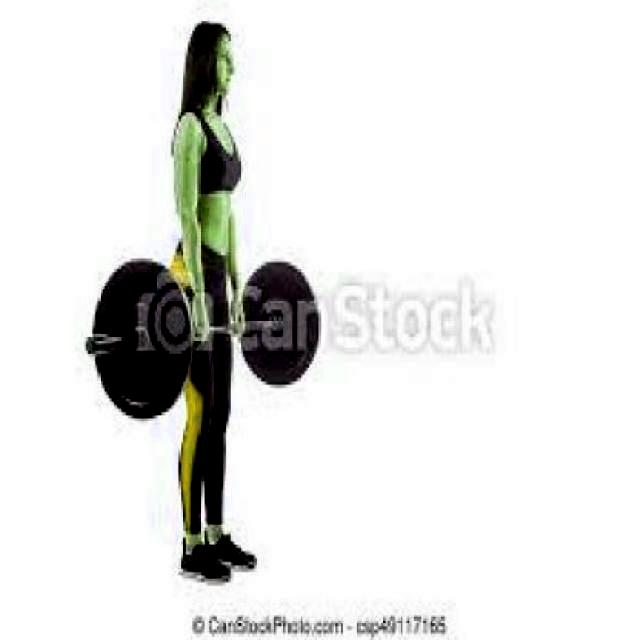barbell: (75, 253, 198, 420)
